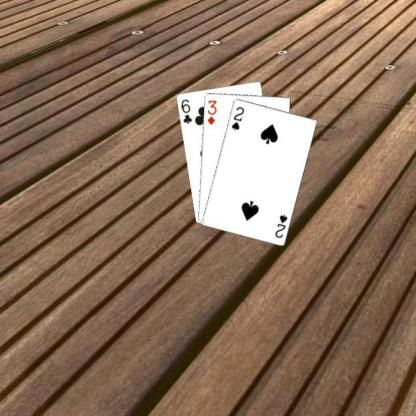2S: (229, 104, 245, 132), (272, 212, 288, 239)
3D: (204, 98, 218, 126)
6C: (178, 96, 193, 125)
